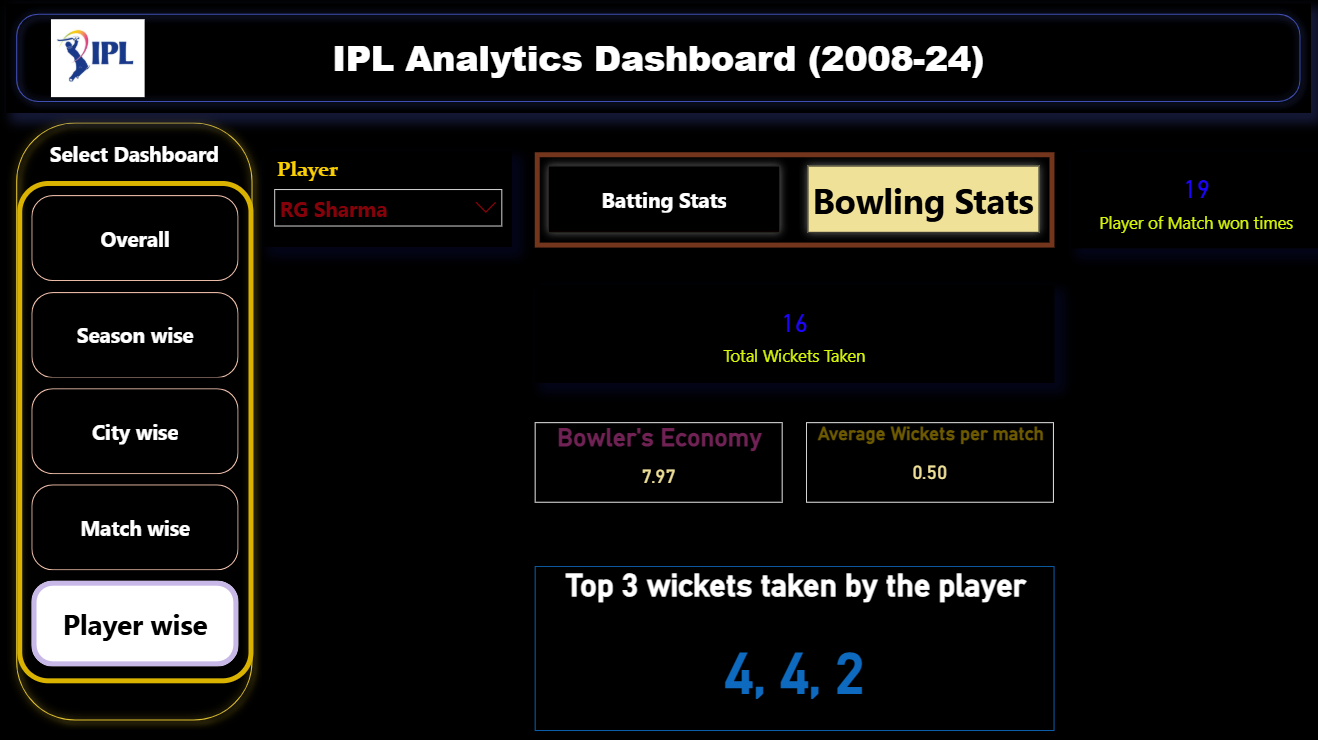

The page's visual inventory and layout, read from the dashboard file:
{"tool":"powerbi","page":{"name":"Player wise","canvas":[1280,720],"ordinal":4},"visuals":[{"type":"shape","box":[10.1,112.5,248.2,597.3],"z":0},{"type":"shape","box":[10.1,7.2,1259.5,105.3],"z":1000},{"type":"slicer","fields":{"Values":["PlayersTable.Player"]},"box":[258.2,149.6,240.1,92.9],"z":2000},{"type":"card","fields":{"Values":["Player1.Total Wickets Taken"]},"box":[520,278.7,501.9,94.1],"z":4000},{"type":"card","title":"Bowler''s Economy","fields":{"Values":["Player1.Bowler Economy"]},"box":[519.4,411.2,239.5,77.9],"z":6000},{"type":"card","title":"Average Wickets per match","fields":{"Values":["Player1.Bowler Avg Wickets per Match"]},"box":[782,411.2,239.5,77.9],"z":8000},{"type":"card","title":"Top 3 wickets taken by the player","fields":{"Values":["Player1.Top3WicketsForPlayerText"]},"box":[520,550.1,501.9,159.3],"z":10000},{"type":"card","fields":{"Values":["Player1.Player of Match Count"]},"box":[1037.5,150.8,242.5,92.9],"z":11000},{"type":"bookmarkNavigator","box":[520,150.8,501.9,91.7],"z":12000},{"type":"pageNavigator","box":[20.5,178.6,228,485],"z":13000},{"type":"image","box":[33.8,16.9,100.1,86.9],"z":13001}]}

Visuals, with their boxes in screenshot pixels (x1, y1, x2, y2), scaled from the page's 1280x720 canvas onto the 1318x740 screenshot:
shape: Rect(10, 116, 266, 730)
shape: Rect(10, 7, 1307, 116)
slicer - PlayersTable.Player: Rect(266, 154, 513, 249)
card - Player1.Total Wickets Taken: Rect(535, 286, 1052, 383)
"Bowler''s Economy" card: Rect(535, 423, 781, 503)
"Average Wickets per match" card: Rect(805, 423, 1052, 503)
"Top 3 wickets taken by the player" card: Rect(535, 565, 1052, 729)
card - Player1.Player of Match Count: Rect(1068, 155, 1317, 250)
bookmarkNavigator: Rect(535, 155, 1052, 249)
pageNavigator: Rect(21, 184, 256, 682)
image: Rect(35, 17, 138, 107)
